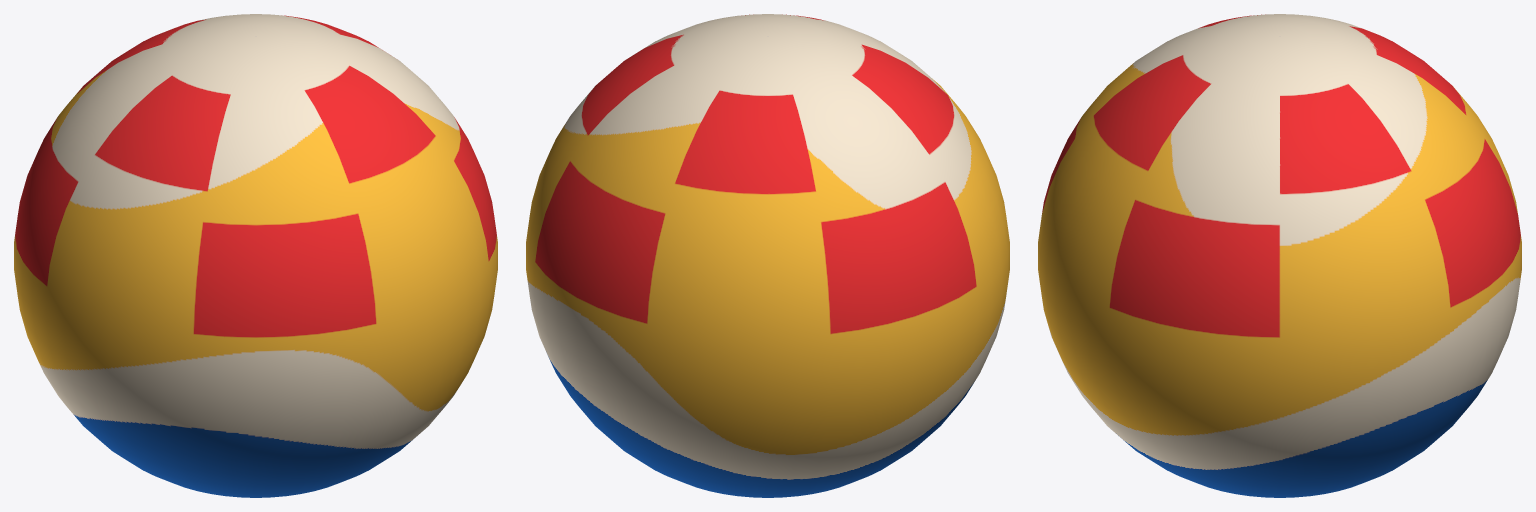
File: ball_a.glb
3 views of the same model, side by side, from view 1: azimuth 30°, elevation 25°; view 2: azimuth 150°, elevation 25°; view 3: azimuth 270°, elevation 25° (orthographic).
Visible parts, largest first — view 1: PaintedSphere; view 2: PaintedSphere; view 3: PaintedSphere.
Part boxes in pixels (bbox=[...]): PaintedSphere: bbox=[14, 14, 497, 497]; PaintedSphere: bbox=[526, 14, 1009, 497]; PaintedSphere: bbox=[1038, 14, 1521, 497].
Size of the model in its own units: 2 by 2 by 2.
Materials: 1 (1 with a texture image).
